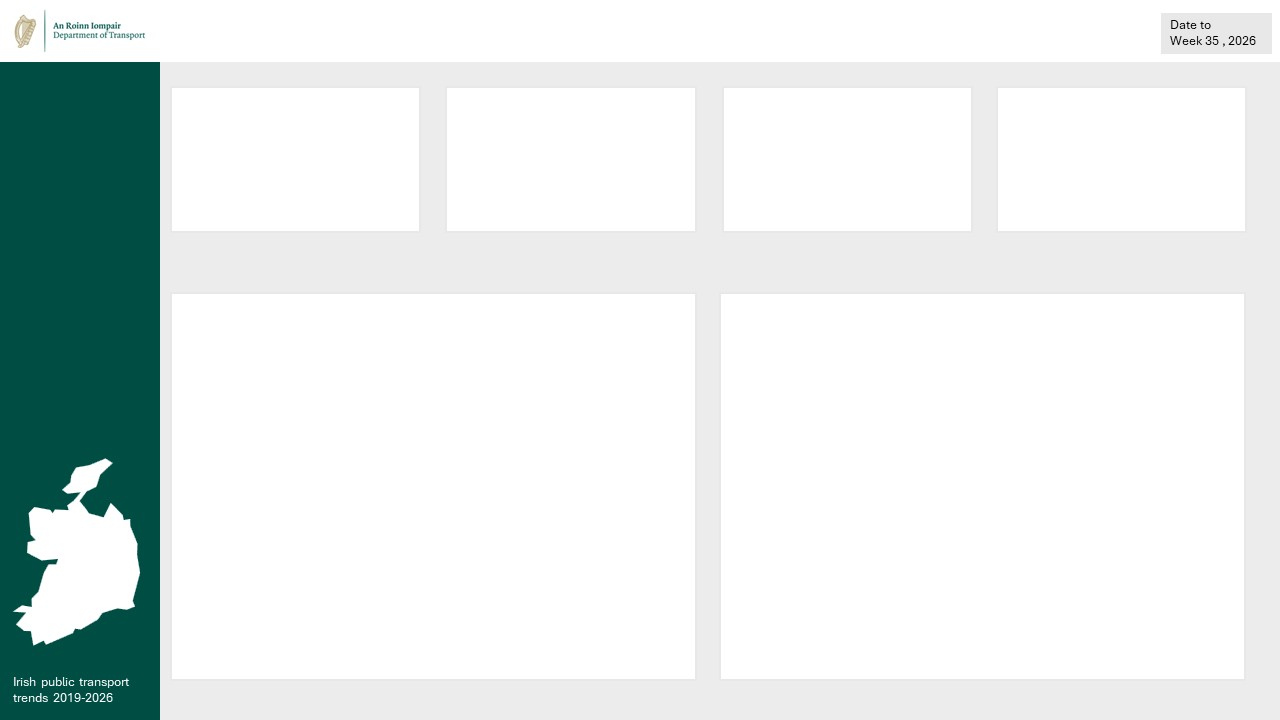

This screenshot's page, from the dashboard's own definition file:
{"tool":"powerbi","page":{"name":"Public Transport Overview","canvas":[1920,1080],"ordinal":0},"visuals":[{"type":"textbox","box":[256.9,23.2,336.2,50.6],"z":0},{"type":"clusteredBarChart","fields":{"Category":["Public_Transport_Combined.Mode of Transport"],"Y":["Sum(Public_Transport_Combined.Passenger Journeys)"]},"box":[256.9,377.2,799.4,340.3],"z":1000},{"type":"columnChart","fields":{"Category":["Public_Transport_Combined.Year"],"Y":["Public_Transport_Combined.YoY %"]},"box":[1083.7,377.2,784.4,340.3],"z":2000},{"type":"lineChart","fields":{"Category":["Public_Transport_Combined.Year"],"Series":["Public_Transport_Combined.Mode of Transport"],"Y":["Public_Transport_Combined.Total Passenger Journeys"]},"box":[257.3,738.1,940.7,342.5],"z":3000},{"type":"slicer","title":"Year","fields":{"Values":["Public_Transport_Combined.Year"]},"box":[777.6,2.7,278.8,97],"z":4000},{"type":"slicer","title":"Mode of Transport","fields":{"Values":["Public_Transport_Combined.Mode of Transport"]},"box":[1171.1,6.8,371.7,75.2],"z":5000},{"type":"pageNavigator","box":[58.5,183.5,172.9,474.8],"z":6000},{"type":"image","box":[0,202.2,58.5,55.9],"z":7000},{"type":"image","box":[0,332.5,58.5,55.9],"z":8000},{"type":"image","box":[0,575.9,58.5,59.9],"z":9000},{"type":"image","box":[1.3,454.9,53.2,61.2],"z":10000},{"type":"cardVisual","fields":{"Data":["Sum(Public_Transport_Combined.Passenger Journeys)"]},"box":[246.3,127.6,381.3,218.1],"z":11000},{"type":"cardVisual","fields":{"Data":["Sum(Public_Transport_Combined.Passenger Journeys)"]},"box":[1082.7,127.7,373.7,218.1],"z":12000},{"type":"cardVisual","fields":{"Data":["Count(Public_Transport_Combined.Mode of Transport)"]},"box":[1496.3,127.7,371.1,218.1],"z":13000},{"type":"cardVisual","fields":{"Data":["Public_Transport_Combined.YoY % KPI"]},"box":[671,128.5,373.1,218.6],"z":14000},{"type":"image","box":[256.7,127.7,85.1,59.9],"z":15000},{"type":"image","box":[1084.6,129.1,84.6,59.4],"z":16000},{"type":"image","box":[1497.1,130.6,84.6,59.4],"z":17000},{"type":"image","box":[670.7,129.1,84.6,59.4],"z":18000},{"type":"textbox","box":[1268.8,754.9,581,309.6],"z":19000}]}

Visuals, with their boxes in screenshot pixels (x1, y1, x2, y2), scaled from the page's 1920x1080 canvas onto the 1280x720 screenshot:
textbox: 171, 15, 395, 49
clusteredBarChart - Public_Transport_Combined.Mode of Transport x Sum(Public_Transport_Combined.Passenger Journeys): 171, 251, 704, 478
columnChart - Public_Transport_Combined.Year x Public_Transport_Combined.YoY %: 722, 251, 1245, 478
lineChart - Public_Transport_Combined.Year x Public_Transport_Combined.Mode of Transport: 172, 492, 799, 719
"Year" slicer: 518, 2, 704, 66
"Mode of Transport" slicer: 781, 5, 1029, 55
pageNavigator: 39, 122, 154, 439
image: 0, 135, 39, 172
image: 0, 222, 39, 259
image: 0, 384, 39, 424
image: 1, 303, 36, 344
cardVisual - Sum(Public_Transport_Combined.Passenger Journeys): 164, 85, 418, 230
cardVisual - Sum(Public_Transport_Combined.Passenger Journeys): 722, 85, 971, 231
cardVisual - Count(Public_Transport_Combined.Mode of Transport): 998, 85, 1245, 231
cardVisual - Public_Transport_Combined.YoY % KPI: 447, 86, 696, 231
image: 171, 85, 228, 125
image: 723, 86, 779, 126
image: 998, 87, 1054, 127
image: 447, 86, 504, 126
textbox: 846, 503, 1233, 710
